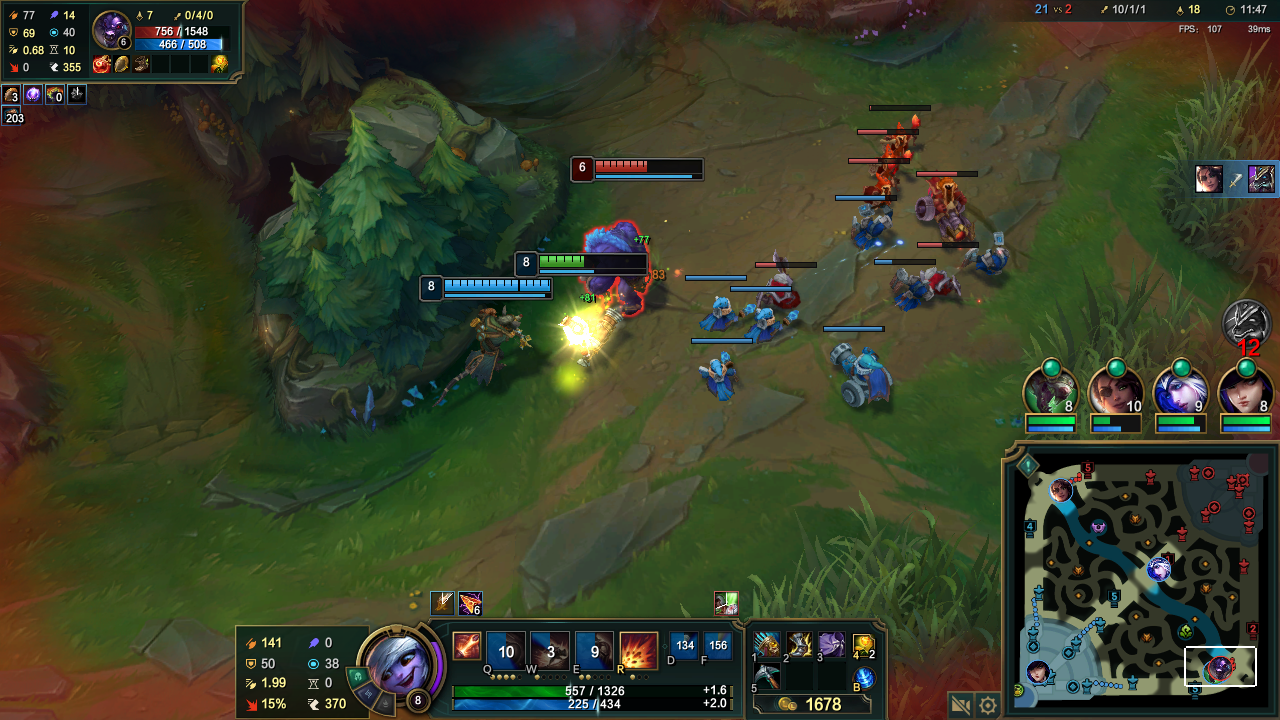DFXB: (908, 172, 985, 251), (869, 118, 933, 160), (756, 270, 811, 314), (923, 261, 965, 301), (861, 171, 899, 207), (871, 140, 905, 176)
DFYX: (596, 157, 652, 177)
WFXB: (820, 342, 910, 422), (744, 299, 810, 356), (695, 349, 748, 408), (695, 290, 755, 339), (964, 238, 1023, 281), (882, 267, 937, 312), (845, 203, 892, 245)
